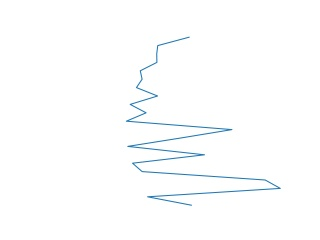crevasseRiverBedLagDeposit: (122, 34, 287, 210)
